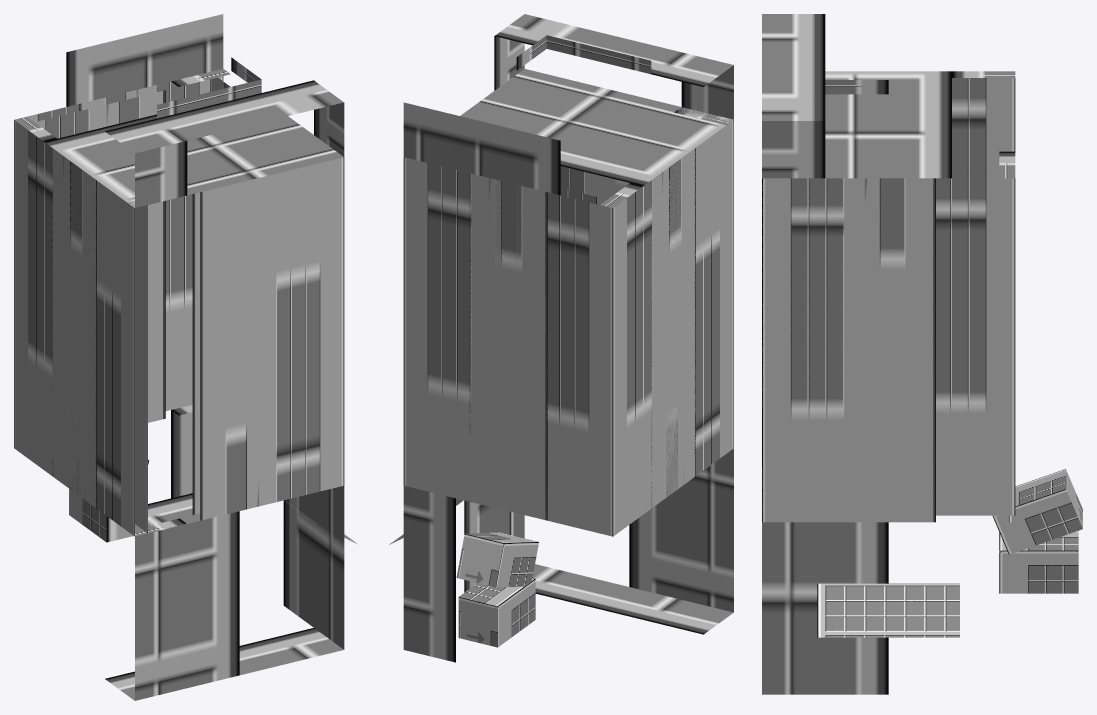
Rendered from cloner.obj.
3 renders of one model, left to right at view 1: azimuth 30°, elevation 25°; view 2: azimuth 150°, elevation 25°; view 3: azimuth 270°, elevation 25°, orthographic. The views are drawn at different scales.
Parts seen in each view (by area): view 1: Glass1; view 2: Glass1; view 3: Glass1.
Boxes of the visible parts, x1,y1,x2,y2 form: Glass1: (14, 14, 358, 700); Glass1: (389, 14, 733, 662); Glass1: (762, 14, 1082, 694).
Size of the model in its own units: 1.2 by 2.63 by 1.27.
